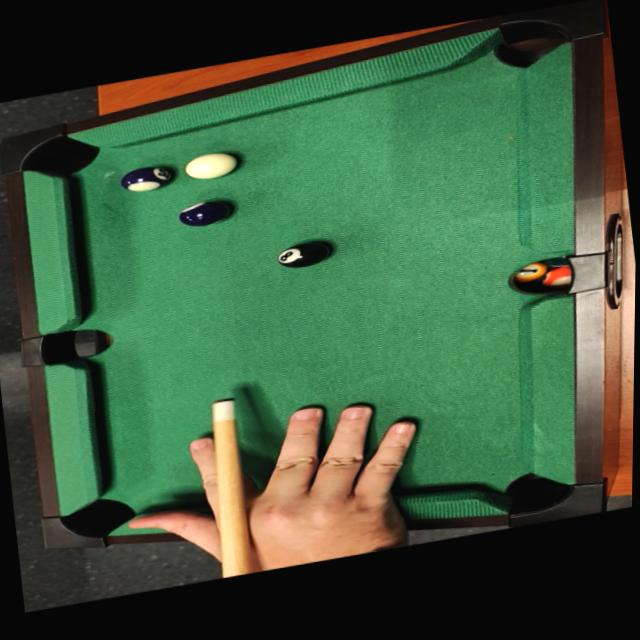cue ball: (183, 145, 242, 183)
other: (272, 234, 334, 274), (174, 194, 239, 232), (116, 160, 177, 195)
